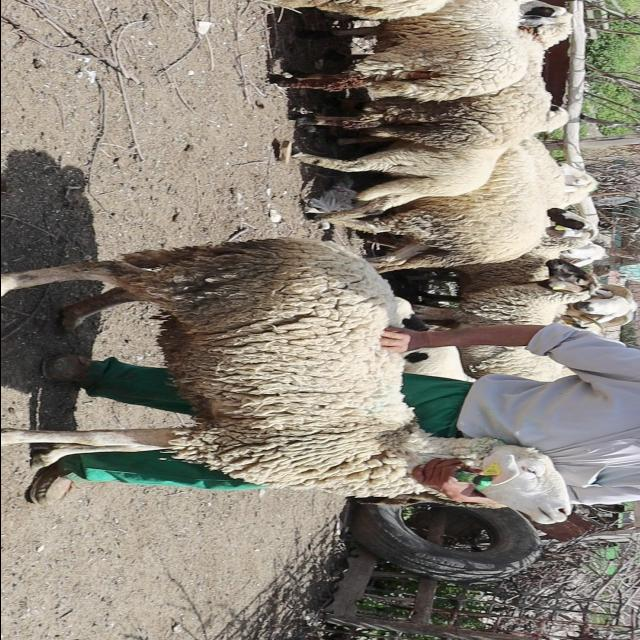Score_5: (1, 237, 570, 523)
